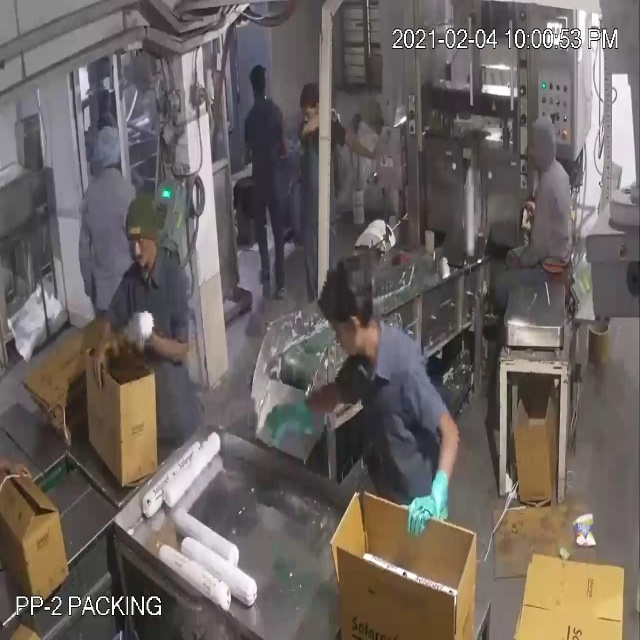Guantes: (246, 370, 346, 452), (402, 460, 462, 554)
Sin_guantes: (124, 294, 193, 369), (88, 289, 133, 395), (338, 118, 406, 169)
